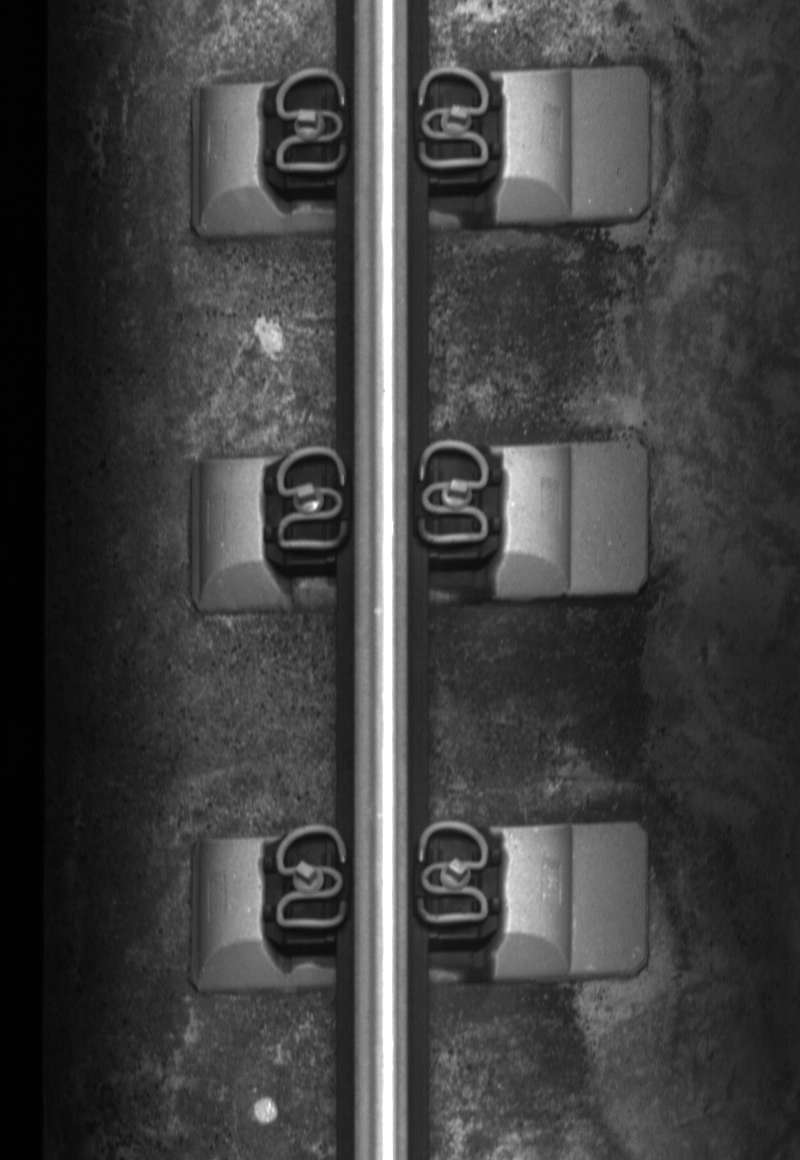l_faster: (269, 63, 352, 179), (270, 819, 351, 936), (272, 440, 351, 553)
r_faster: (409, 816, 497, 936), (411, 62, 495, 175), (412, 437, 493, 554)
